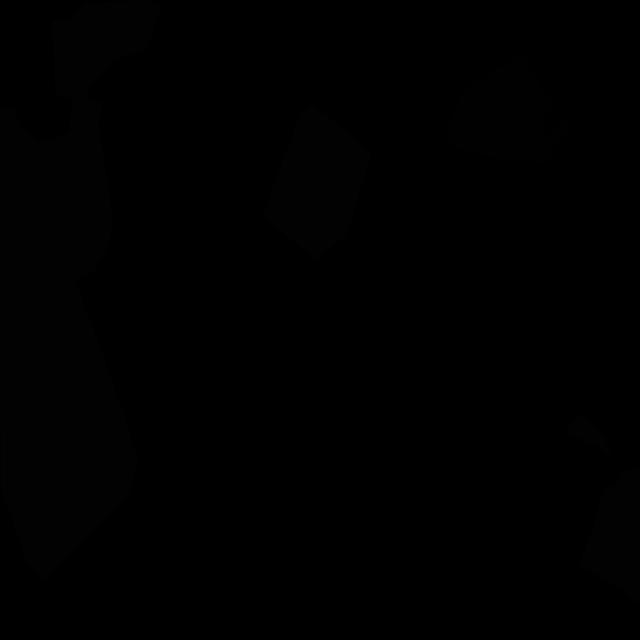cardboard: (0, 108, 138, 582), (5, 86, 114, 281), (262, 104, 372, 260), (52, 0, 161, 98), (578, 461, 640, 605), (565, 414, 613, 455)
rigid_plastic: (444, 54, 566, 165)
